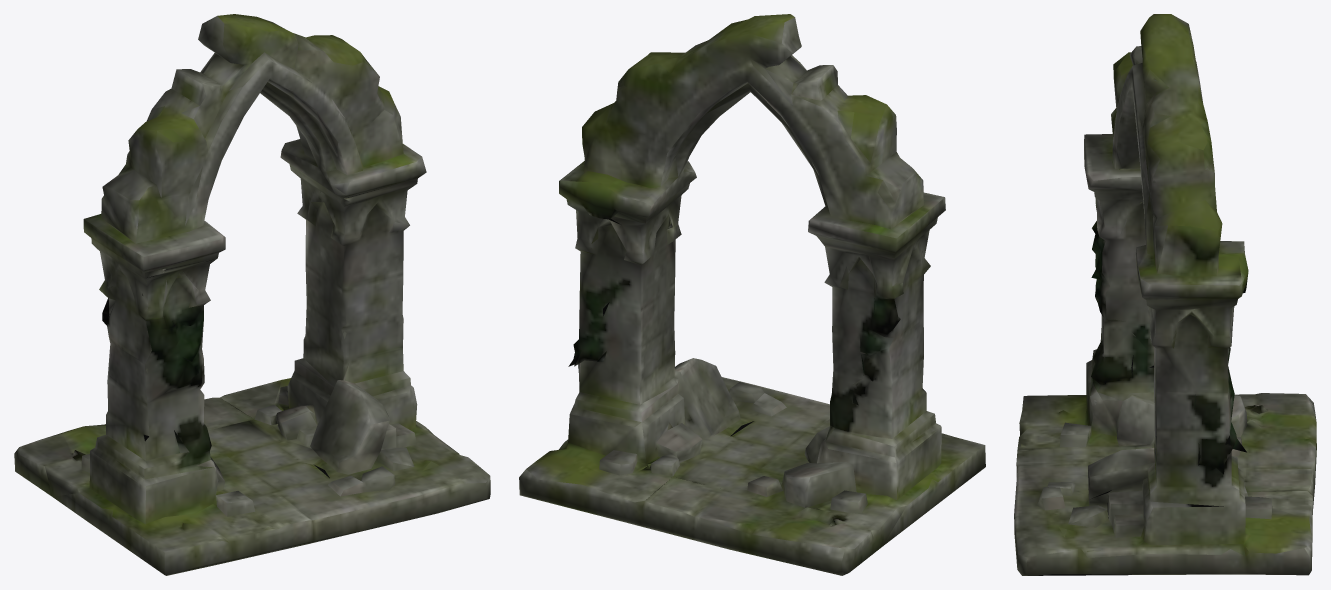
Rendered from ruins_arch.glb.
3 renders of one model, left to right at view 1: azimuth 30°, elevation 25°; view 2: azimuth 150°, elevation 25°; view 3: azimuth 270°, elevation 25°, orthographic.
Visible parts, largest first — view 1: ruins_arch; view 2: ruins_arch; view 3: ruins_arch.
Boxes of the visible parts, left/top/right/bottom form: ruins_arch: left=14, top=14, right=490, bottom=575; ruins_arch: left=519, top=14, right=985, bottom=575; ruins_arch: left=1014, top=14, right=1316, bottom=575.
Bounding box in the file's own units: 3.3 × 4.49 × 2.64.
1 material, 1 textured.
